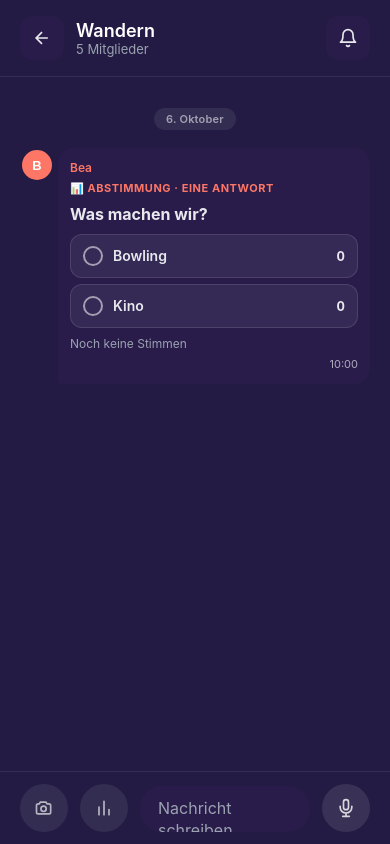
ChatPage — polls › renders the poll from the page payload with "x von y" and votes optimistically
This screenshot has width=390, height=844.
Expected: the text "Was machen wir?" is shown, [70,204,208,224]
Expected: the text "Noch keine Stimmen" is shown, [70,336,187,351]
Click the button "Kino 0" at (128, 305), box [70,284,358,328]
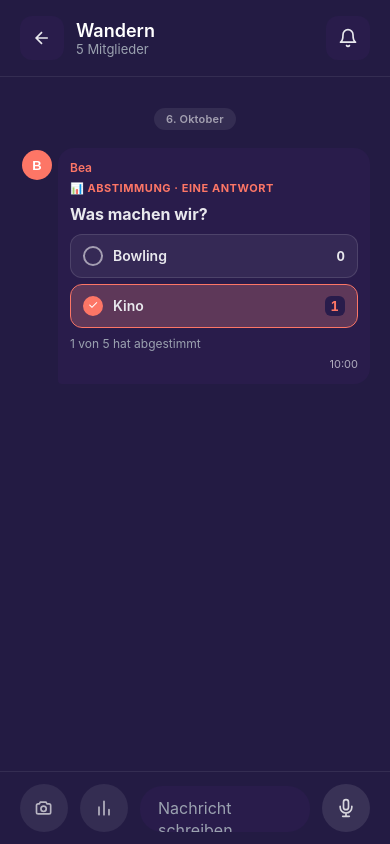
Expected: the text "1 von 5 hat abgestimmt" is shown, [70,336,201,351]
